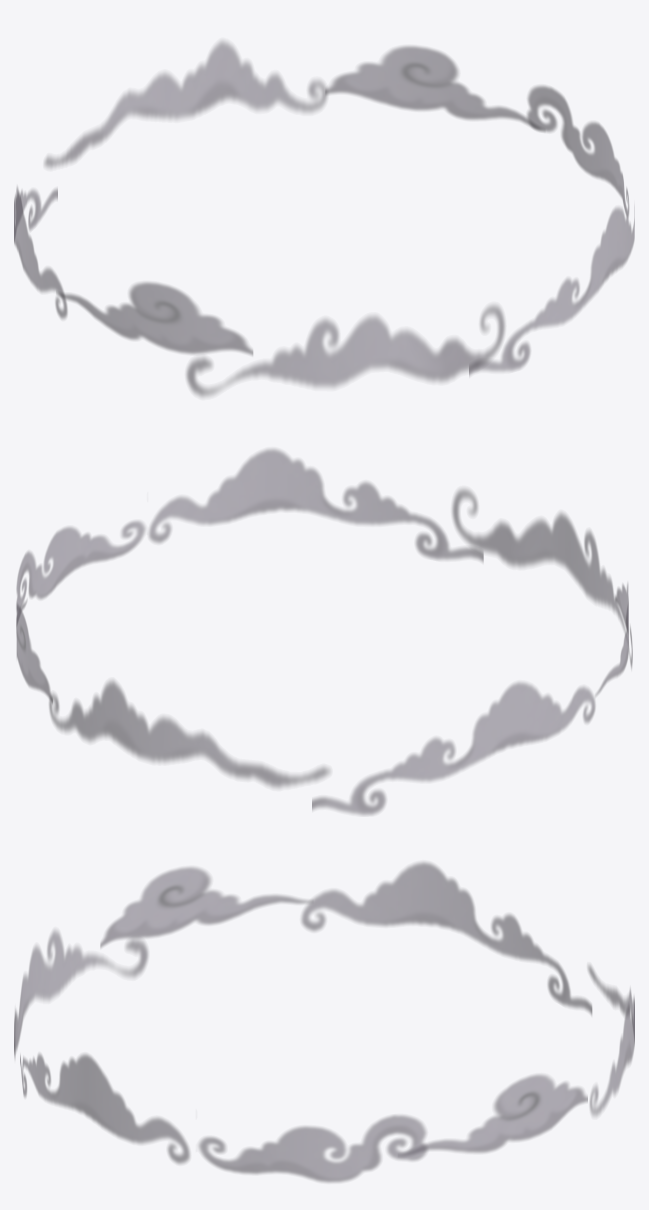
File: Clouds03.glb
The picture shows the model from 3 angles, top to bottom: view 1: azimuth 30°, elevation 25°; view 2: azimuth 150°, elevation 25°; view 3: azimuth 270°, elevation 25°; orthographic projection. The views are drawn at different scales.
Visible parts, largest first — view 1: Clouds03; view 2: Clouds03; view 3: Clouds03.
Part boxes in pixels (<box>): Clouds03: <box>14,40,634,397</box>; Clouds03: <box>16,449,632,815</box>; Clouds03: <box>14,862,634,1182</box>.
Size of the model in its own units: 105 by 23.86 by 106.
1 material, 1 textured.
